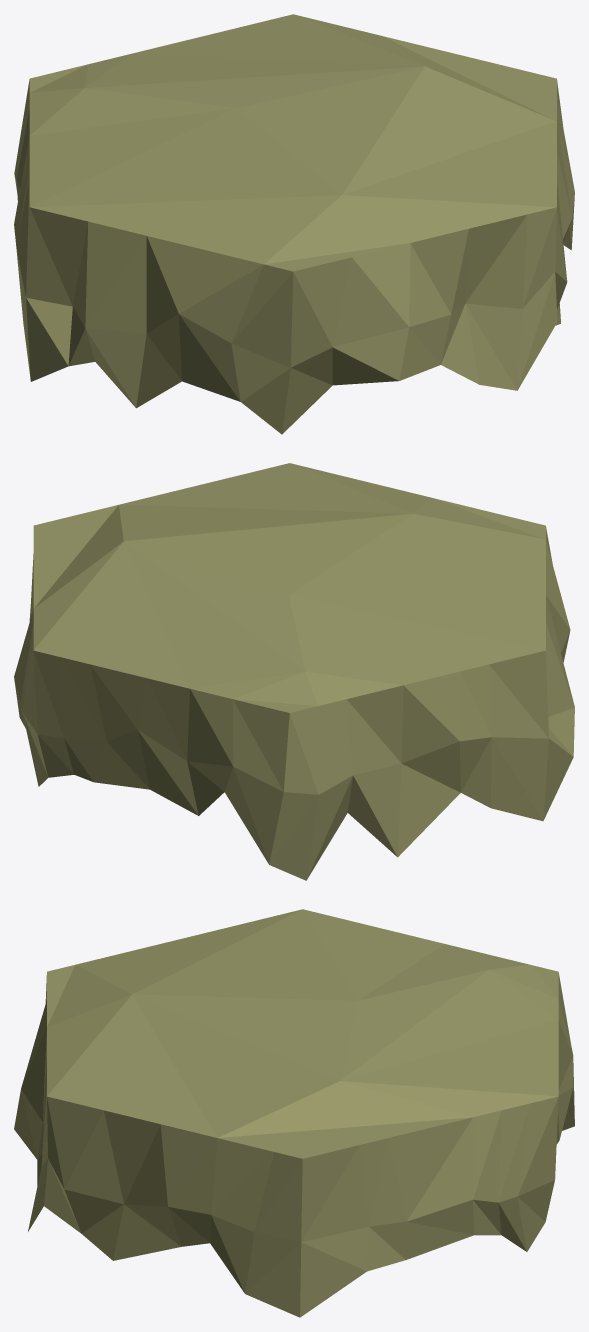
The model's file is Hexagone 5.FBX.
3 views of the same model, one above another, from view 1: azimuth 30°, elevation 25°; view 2: azimuth 150°, elevation 25°; view 3: azimuth 270°, elevation 25° (orthographic). The views are drawn at different scales.
Parts seen in each view (by area): view 1: Hexagone 2; view 2: Hexagone 2; view 3: Hexagone 2.
Boxes of the visible parts, left/top/right/bottom form: Hexagone 2: left=14, top=14, right=574, bottom=434; Hexagone 2: left=14, top=463, right=574, bottom=880; Hexagone 2: left=14, top=909, right=574, bottom=1317.
Bounding box in the file's own units: 1009 × 365 × 950.
